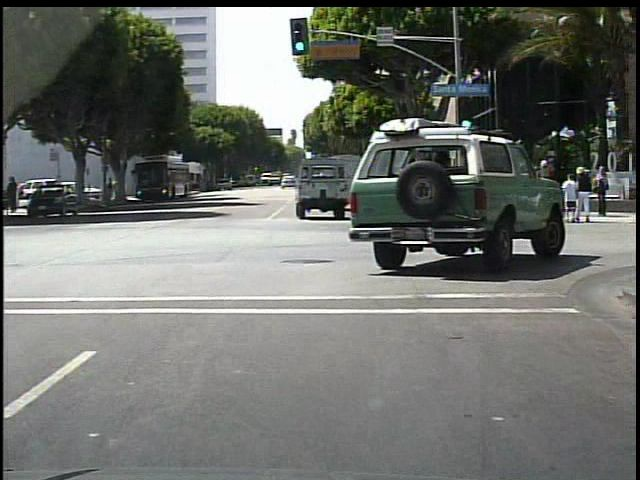person: (573, 166, 592, 223), (593, 166, 611, 218), (561, 173, 578, 221), (514, 160, 529, 214), (473, 170, 490, 216), (504, 167, 518, 216), (504, 165, 518, 212), (463, 166, 475, 216), (534, 159, 556, 182), (116, 176, 125, 205), (106, 177, 115, 200)
